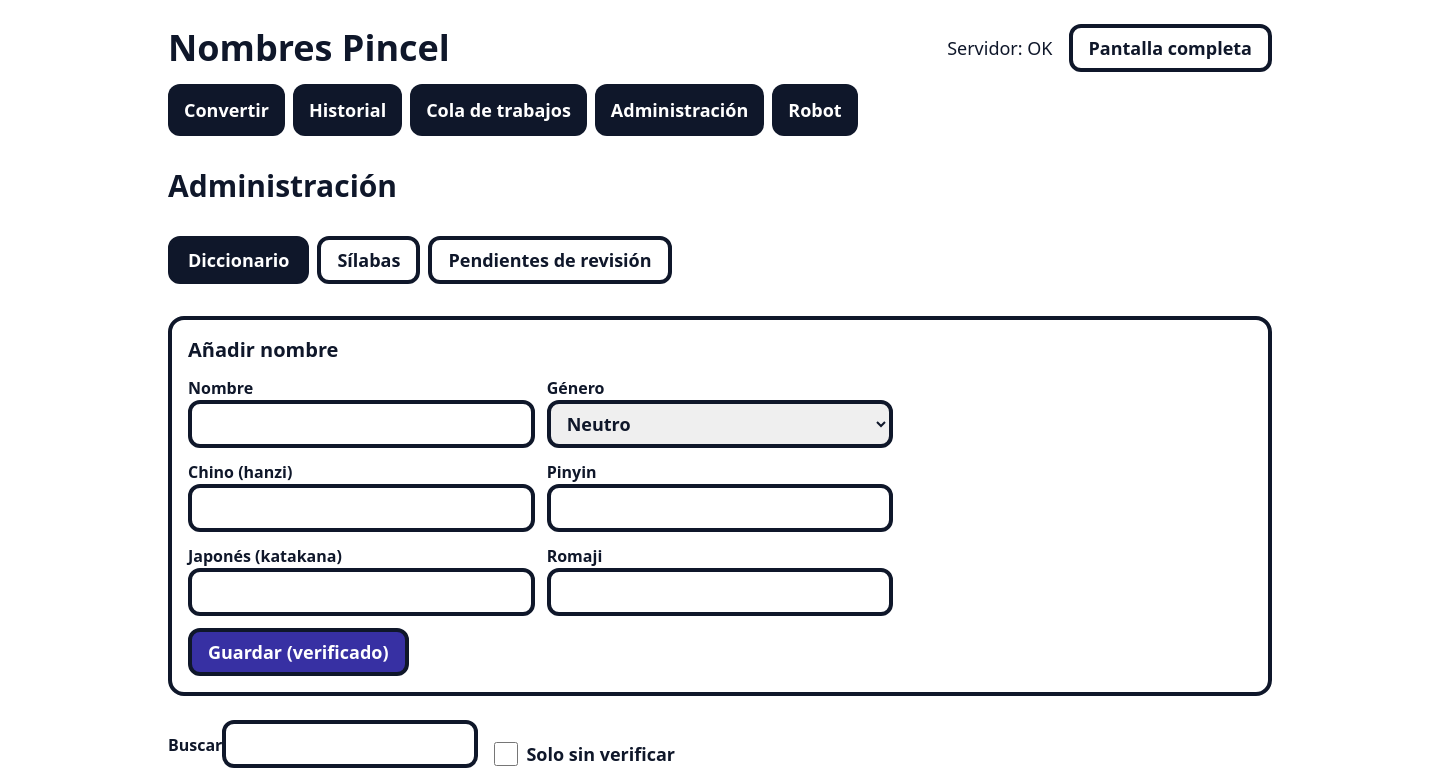
Test case: AdminPage › valida en el cliente: nombre y al menos una transliteración
Click the button "Guardar (verificado)" at (298, 652), box 188,628 -> 408,676
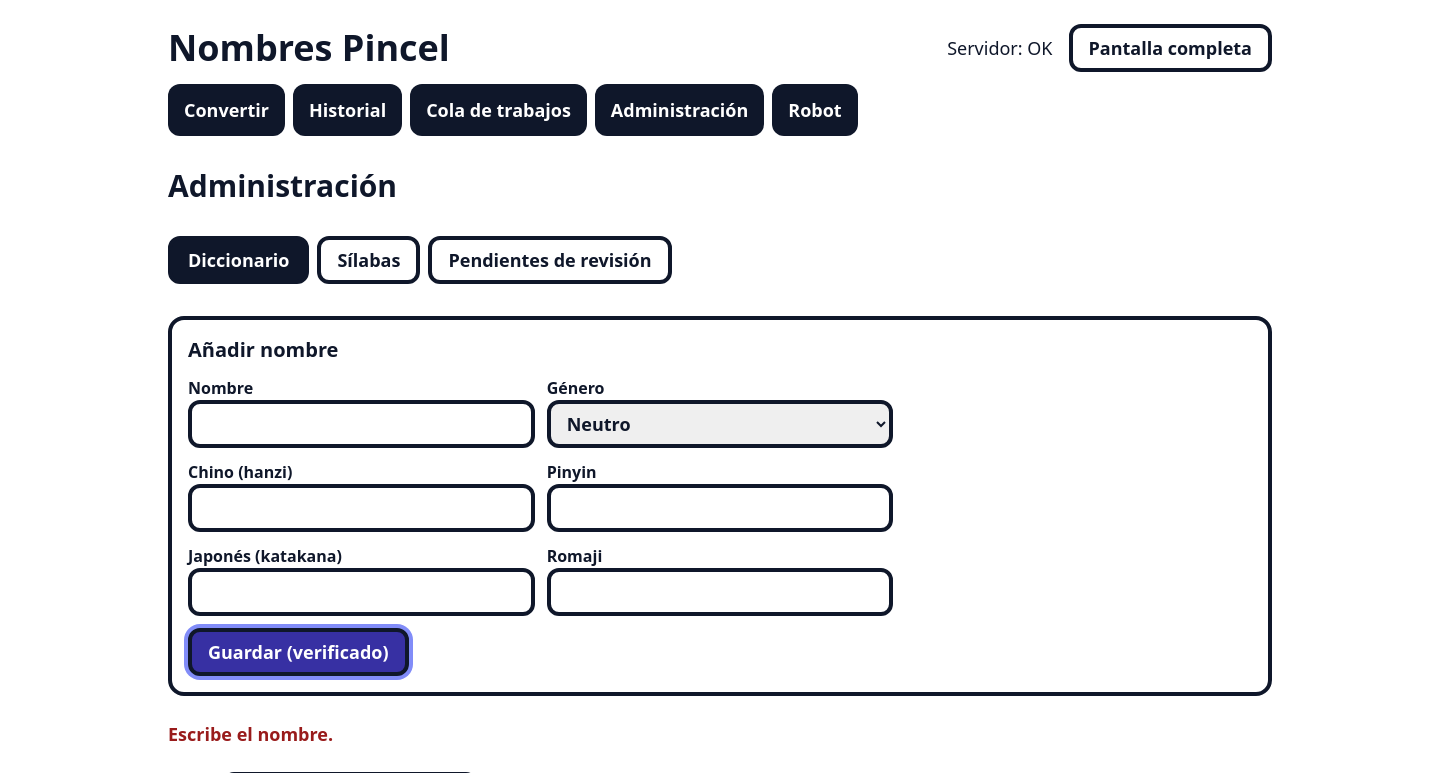
Expected: the message reads "Escribe el nombre.", 168,722 -> 333,746
Type "Raro" into the field labelled "Nombre" at (361, 424), box 188,400 -> 535,448
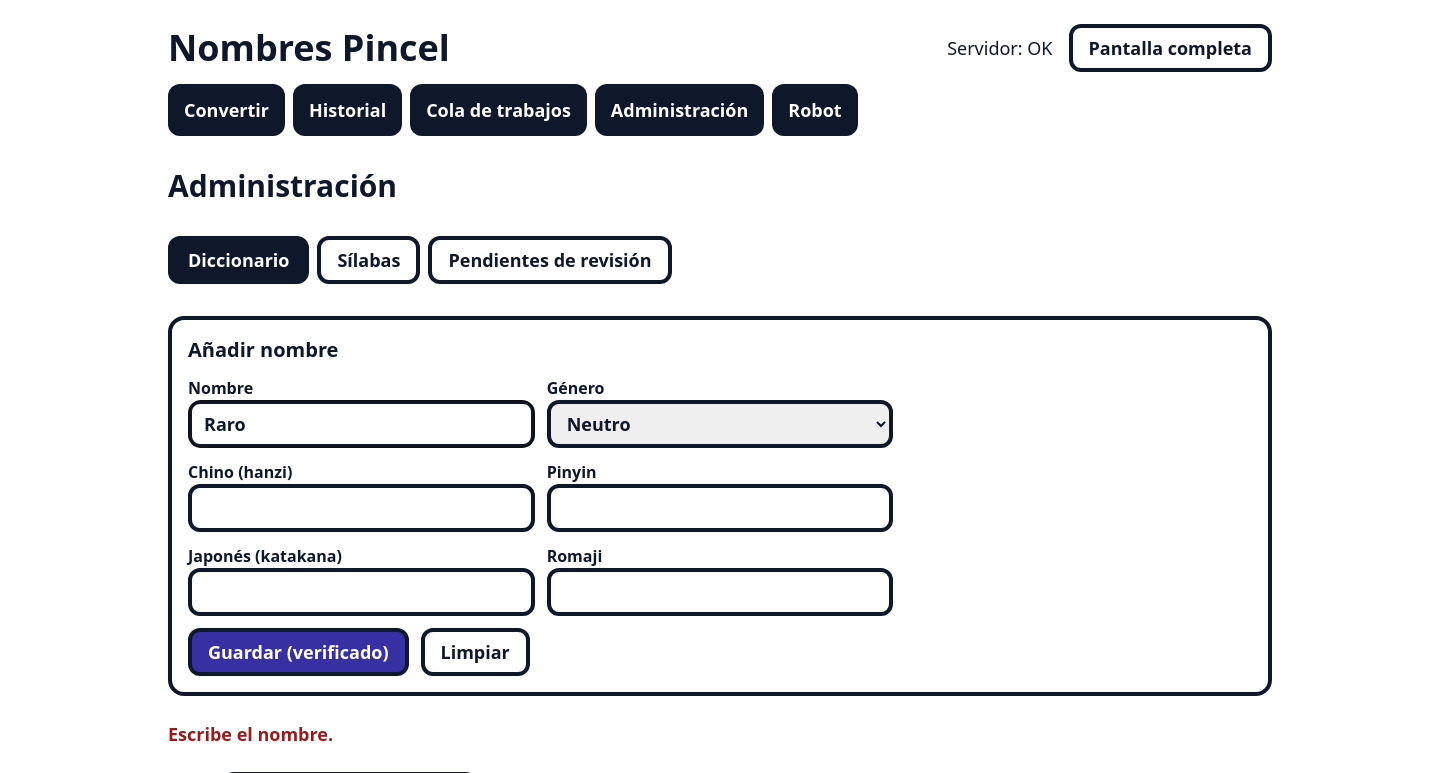
Click the button "Guardar (verificado)" at (298, 652), box 188,628 -> 408,676
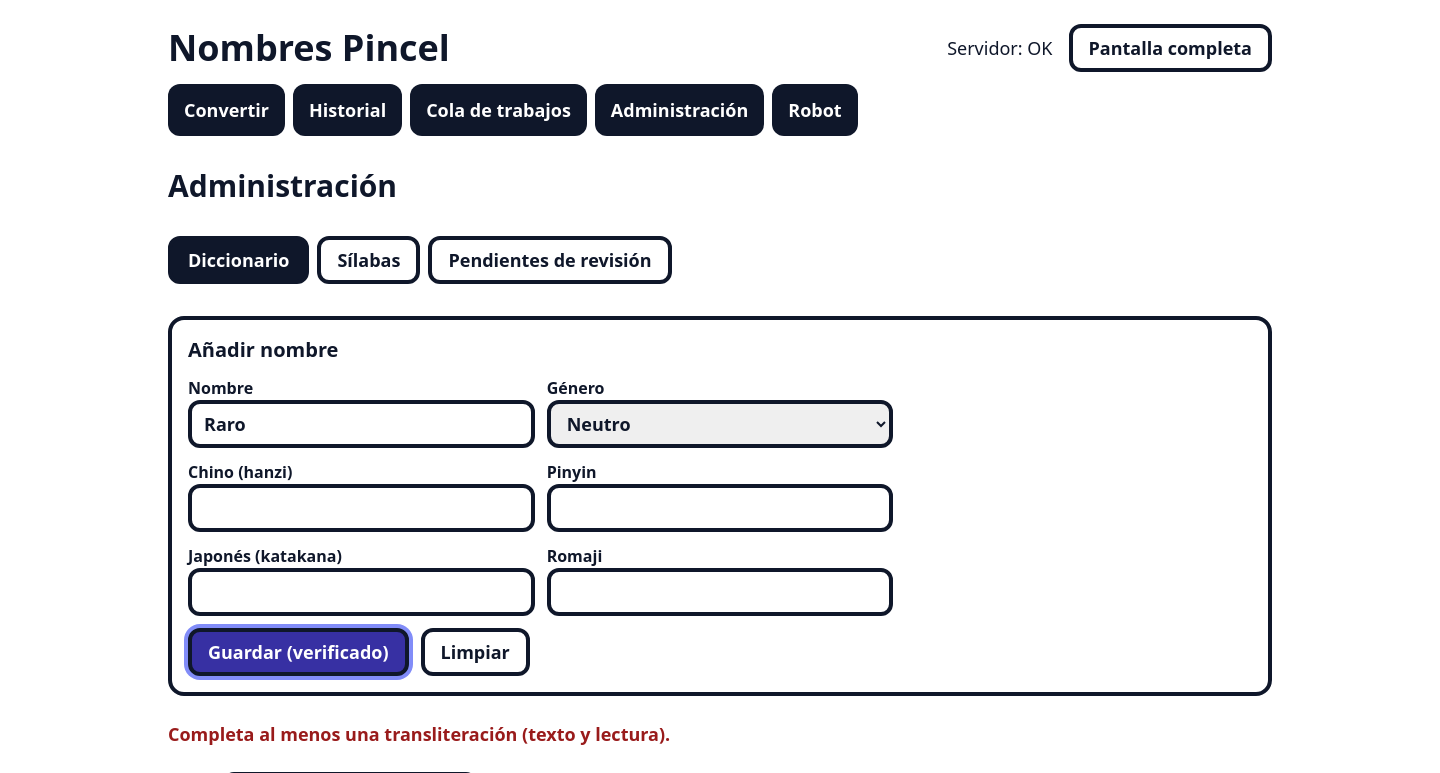
Expected: the message shows "al menos una transliteración", 168,722 -> 670,746
